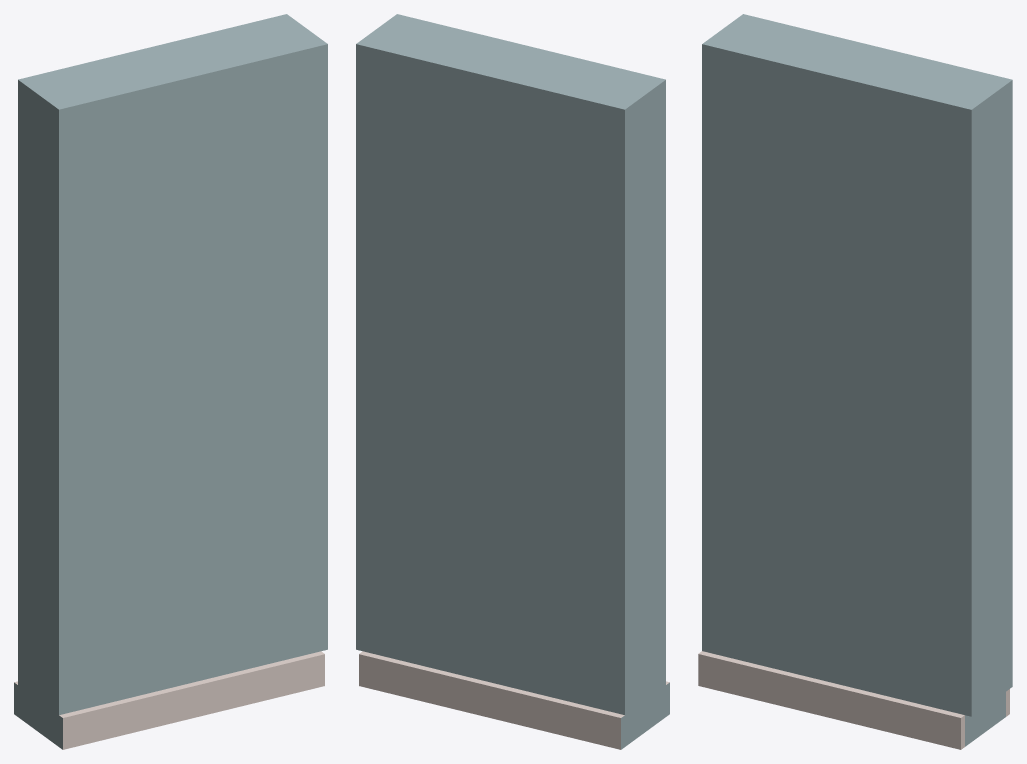
Rendered from HalfWallConnector.fbx.
The picture shows the model from 3 angles, left to right: view 1: azimuth 30°, elevation 25°; view 2: azimuth 150°, elevation 25°; view 3: azimuth 330°, elevation 25°; orthographic projection.
Visible parts, largest first — view 1: HalfWallConnector; view 2: HalfWallConnector; view 3: HalfWallConnector.
Boxes of the visible parts, x1=… form: HalfWallConnector: x1=14, y1=14, x2=327, y2=749; HalfWallConnector: x1=356, y1=14, x2=669, y2=749; HalfWallConnector: x1=698, y1=14, x2=1012, y2=749.
Bounding box in the file's own units: 0.8831 × 0.278 × 2.
